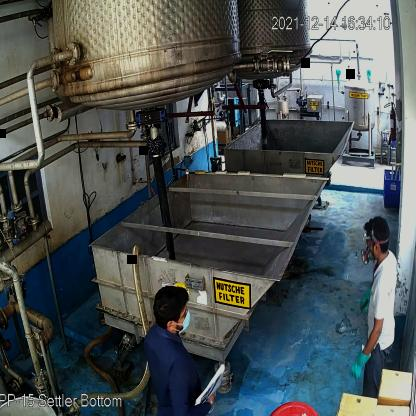glove: (349, 342, 373, 382)
